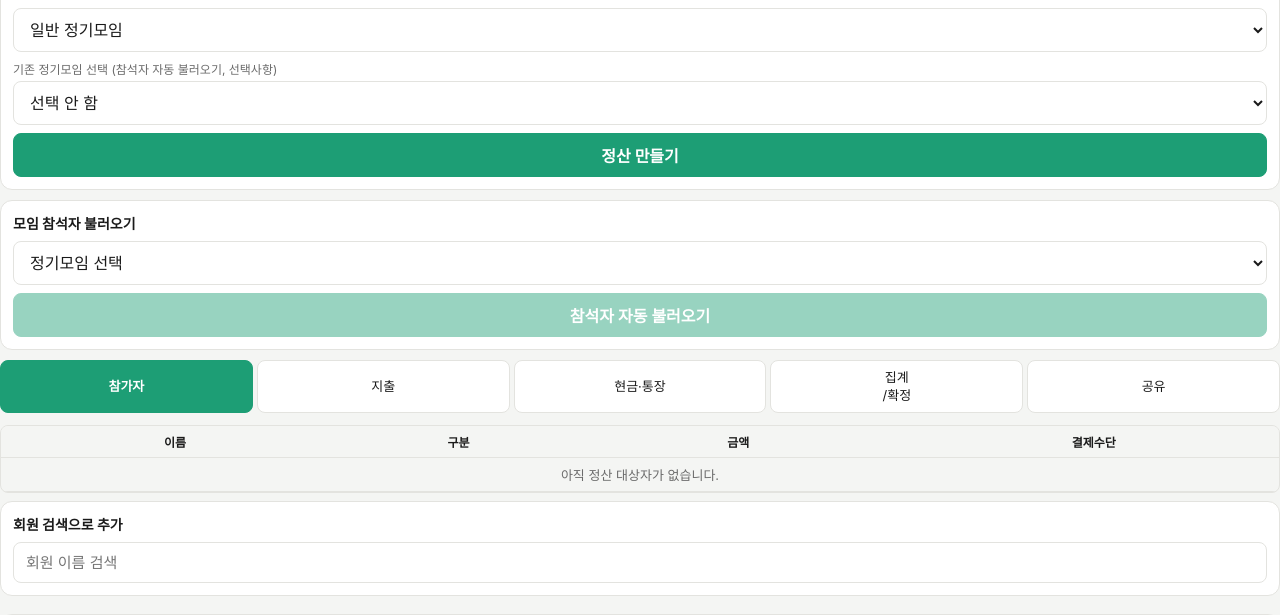
Test: 지출 "수정" — 자동 스크롤 › 3. 정산 화면: 다른 탭(참가자)에 있다가 지출 탭으로 와서 수정하면 "지출 탭 버튼 줄"이 맨 위에 오고 폼이 채워진다
(page scrolled)
Expected: the text "지출 추가" is not shown
Click the button "지출" at (383, 387), box left=257, top=360, right=510, bottom=413
(page scrolled)
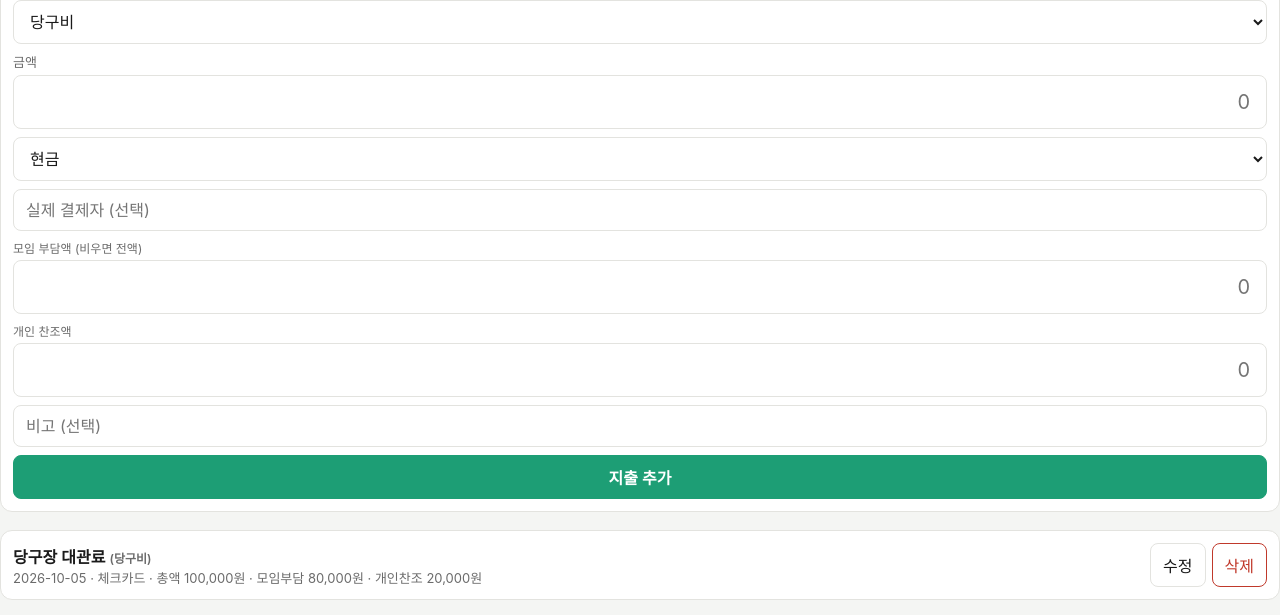
Click the button "수정" in the row of "· 개인찬조 20,000원" at (1178, 565), box left=1150, top=543, right=1206, bottom=587
(page scrolled)
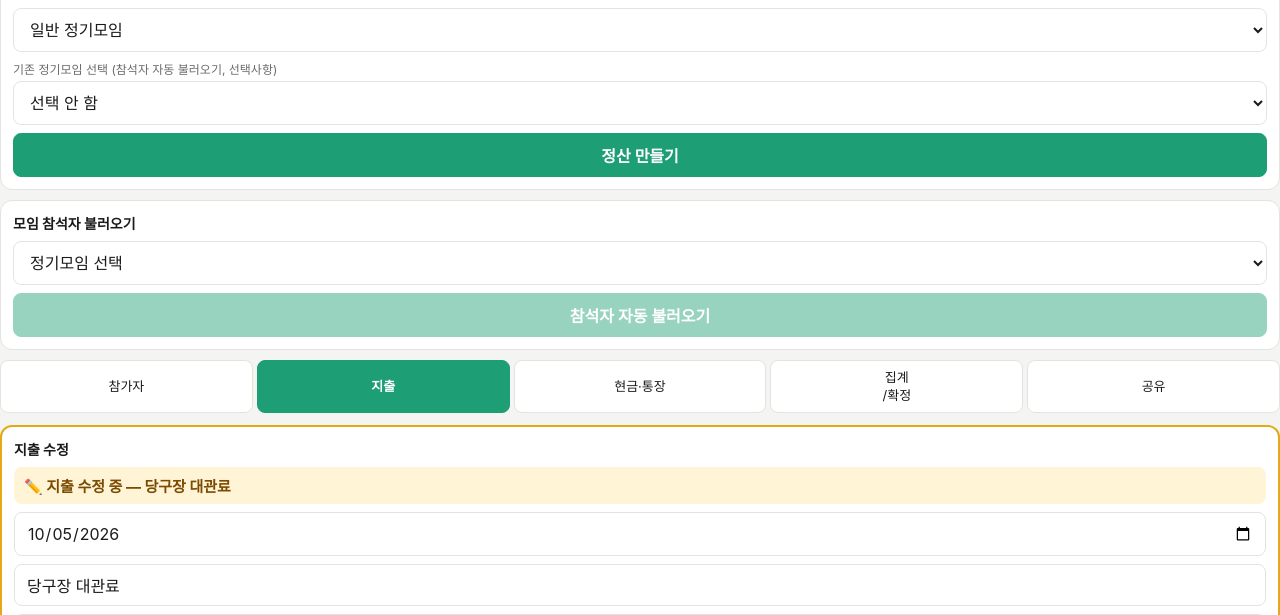
Expected: the field showing "당구장 대관료" is shown, left=14, top=564, right=1266, bottom=606
Expected: the text "지출 수정" is shown, left=14, top=441, right=69, bottom=458
